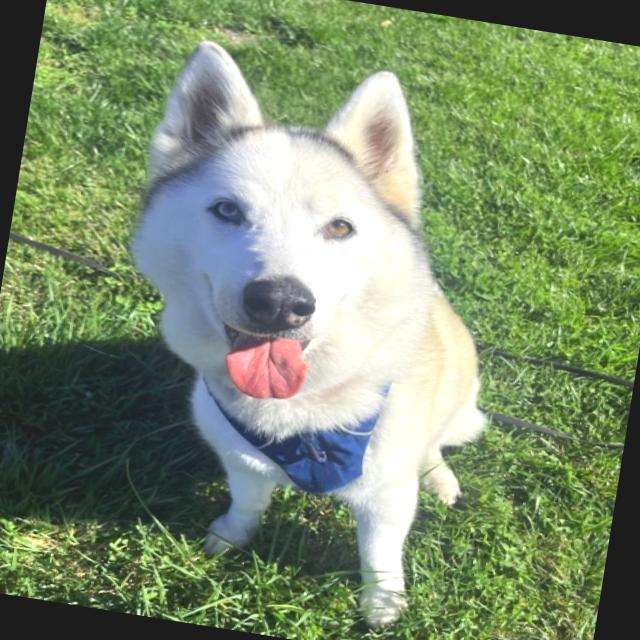siberian_husky_dog: (94, 21, 480, 440)
